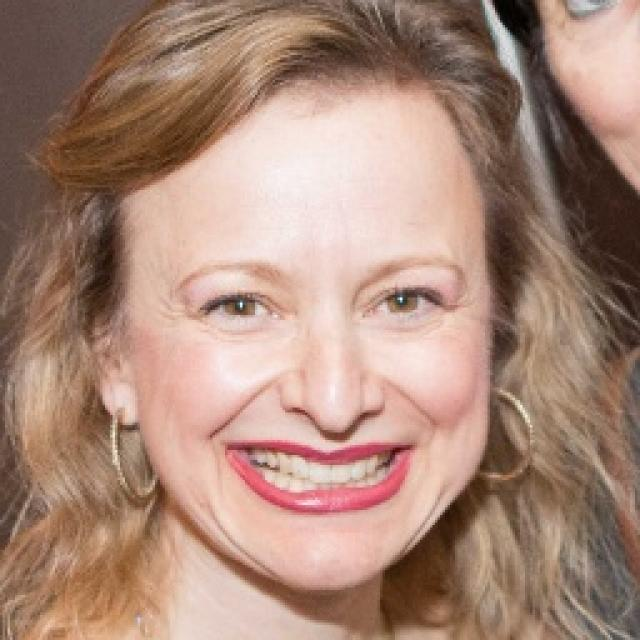earlobe: (66, 276, 137, 427)
